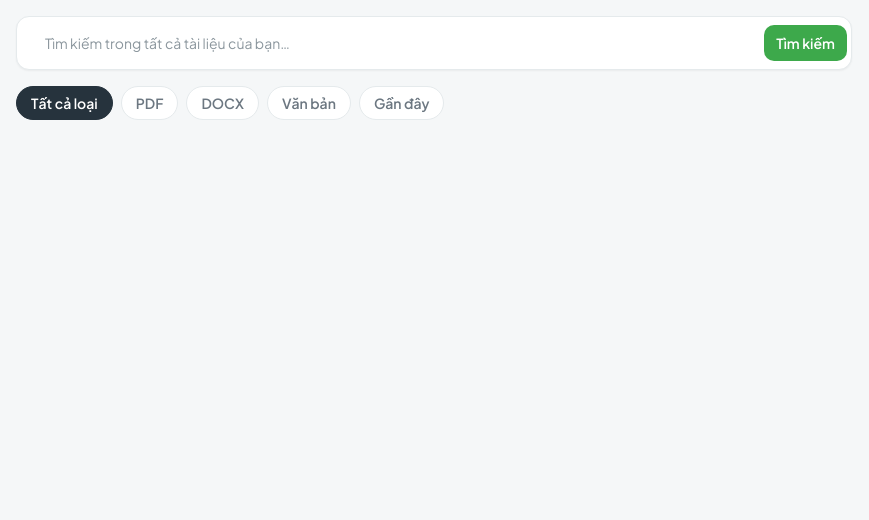
SearchPage › reveals additional passages from an already-shown document after loading more
This screenshot has width=869, height=520.
Type "passage" into the field named "Tìm kiếm tài liệu của bạn". click: (393, 43)
box: top-left (33, 21), bottom-right (752, 65)
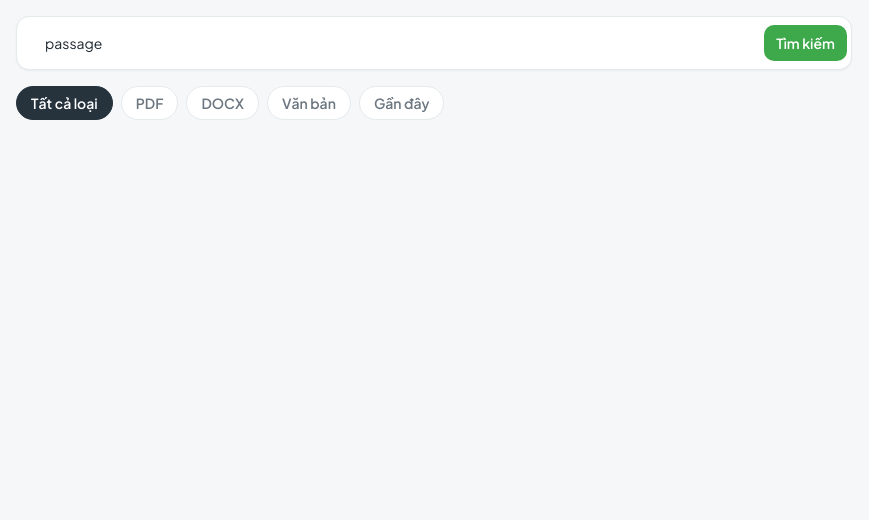
Click the button "Tìm kiếm". click: (806, 43)
box: top-left (764, 25), bottom-right (847, 61)
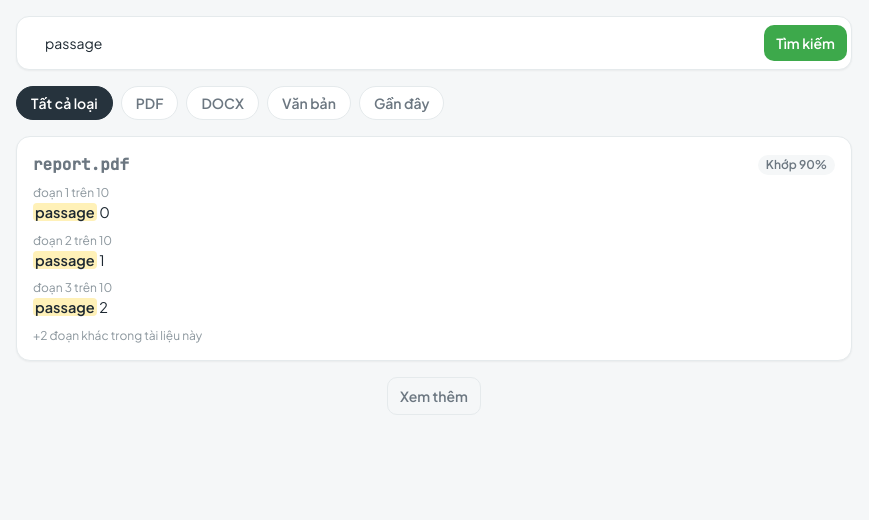
Now the text "+2 đoạn khác trong tài liệu này" is shown, box top-left (33, 328), bottom-right (202, 343)
Click the button "Xem thêm". click: (434, 396)
box: top-left (387, 377), bottom-right (481, 415)
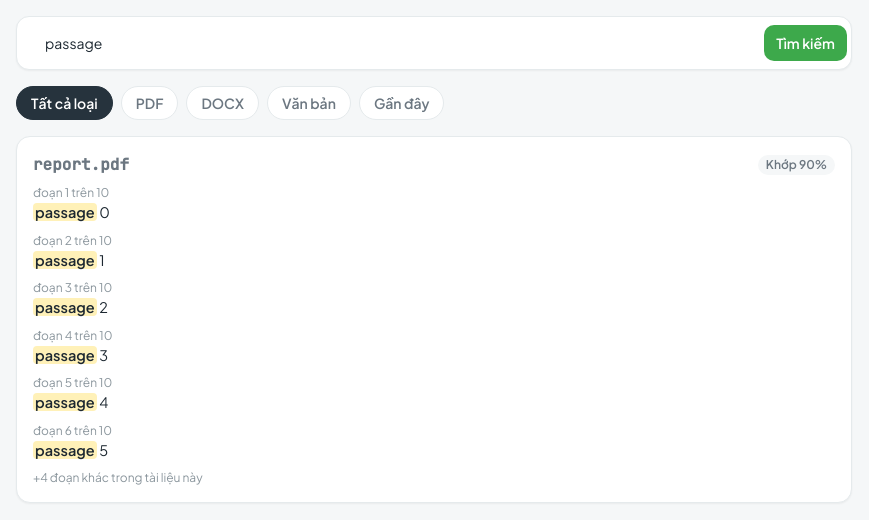
Now the text "+4 đoạn khác trong tài liệu này" is shown, box top-left (33, 470), bottom-right (203, 485)
